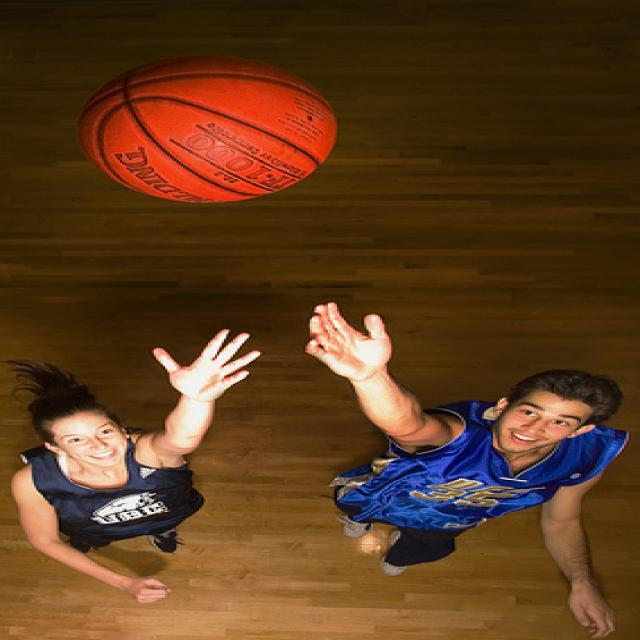basketball: (75, 53, 336, 207)
